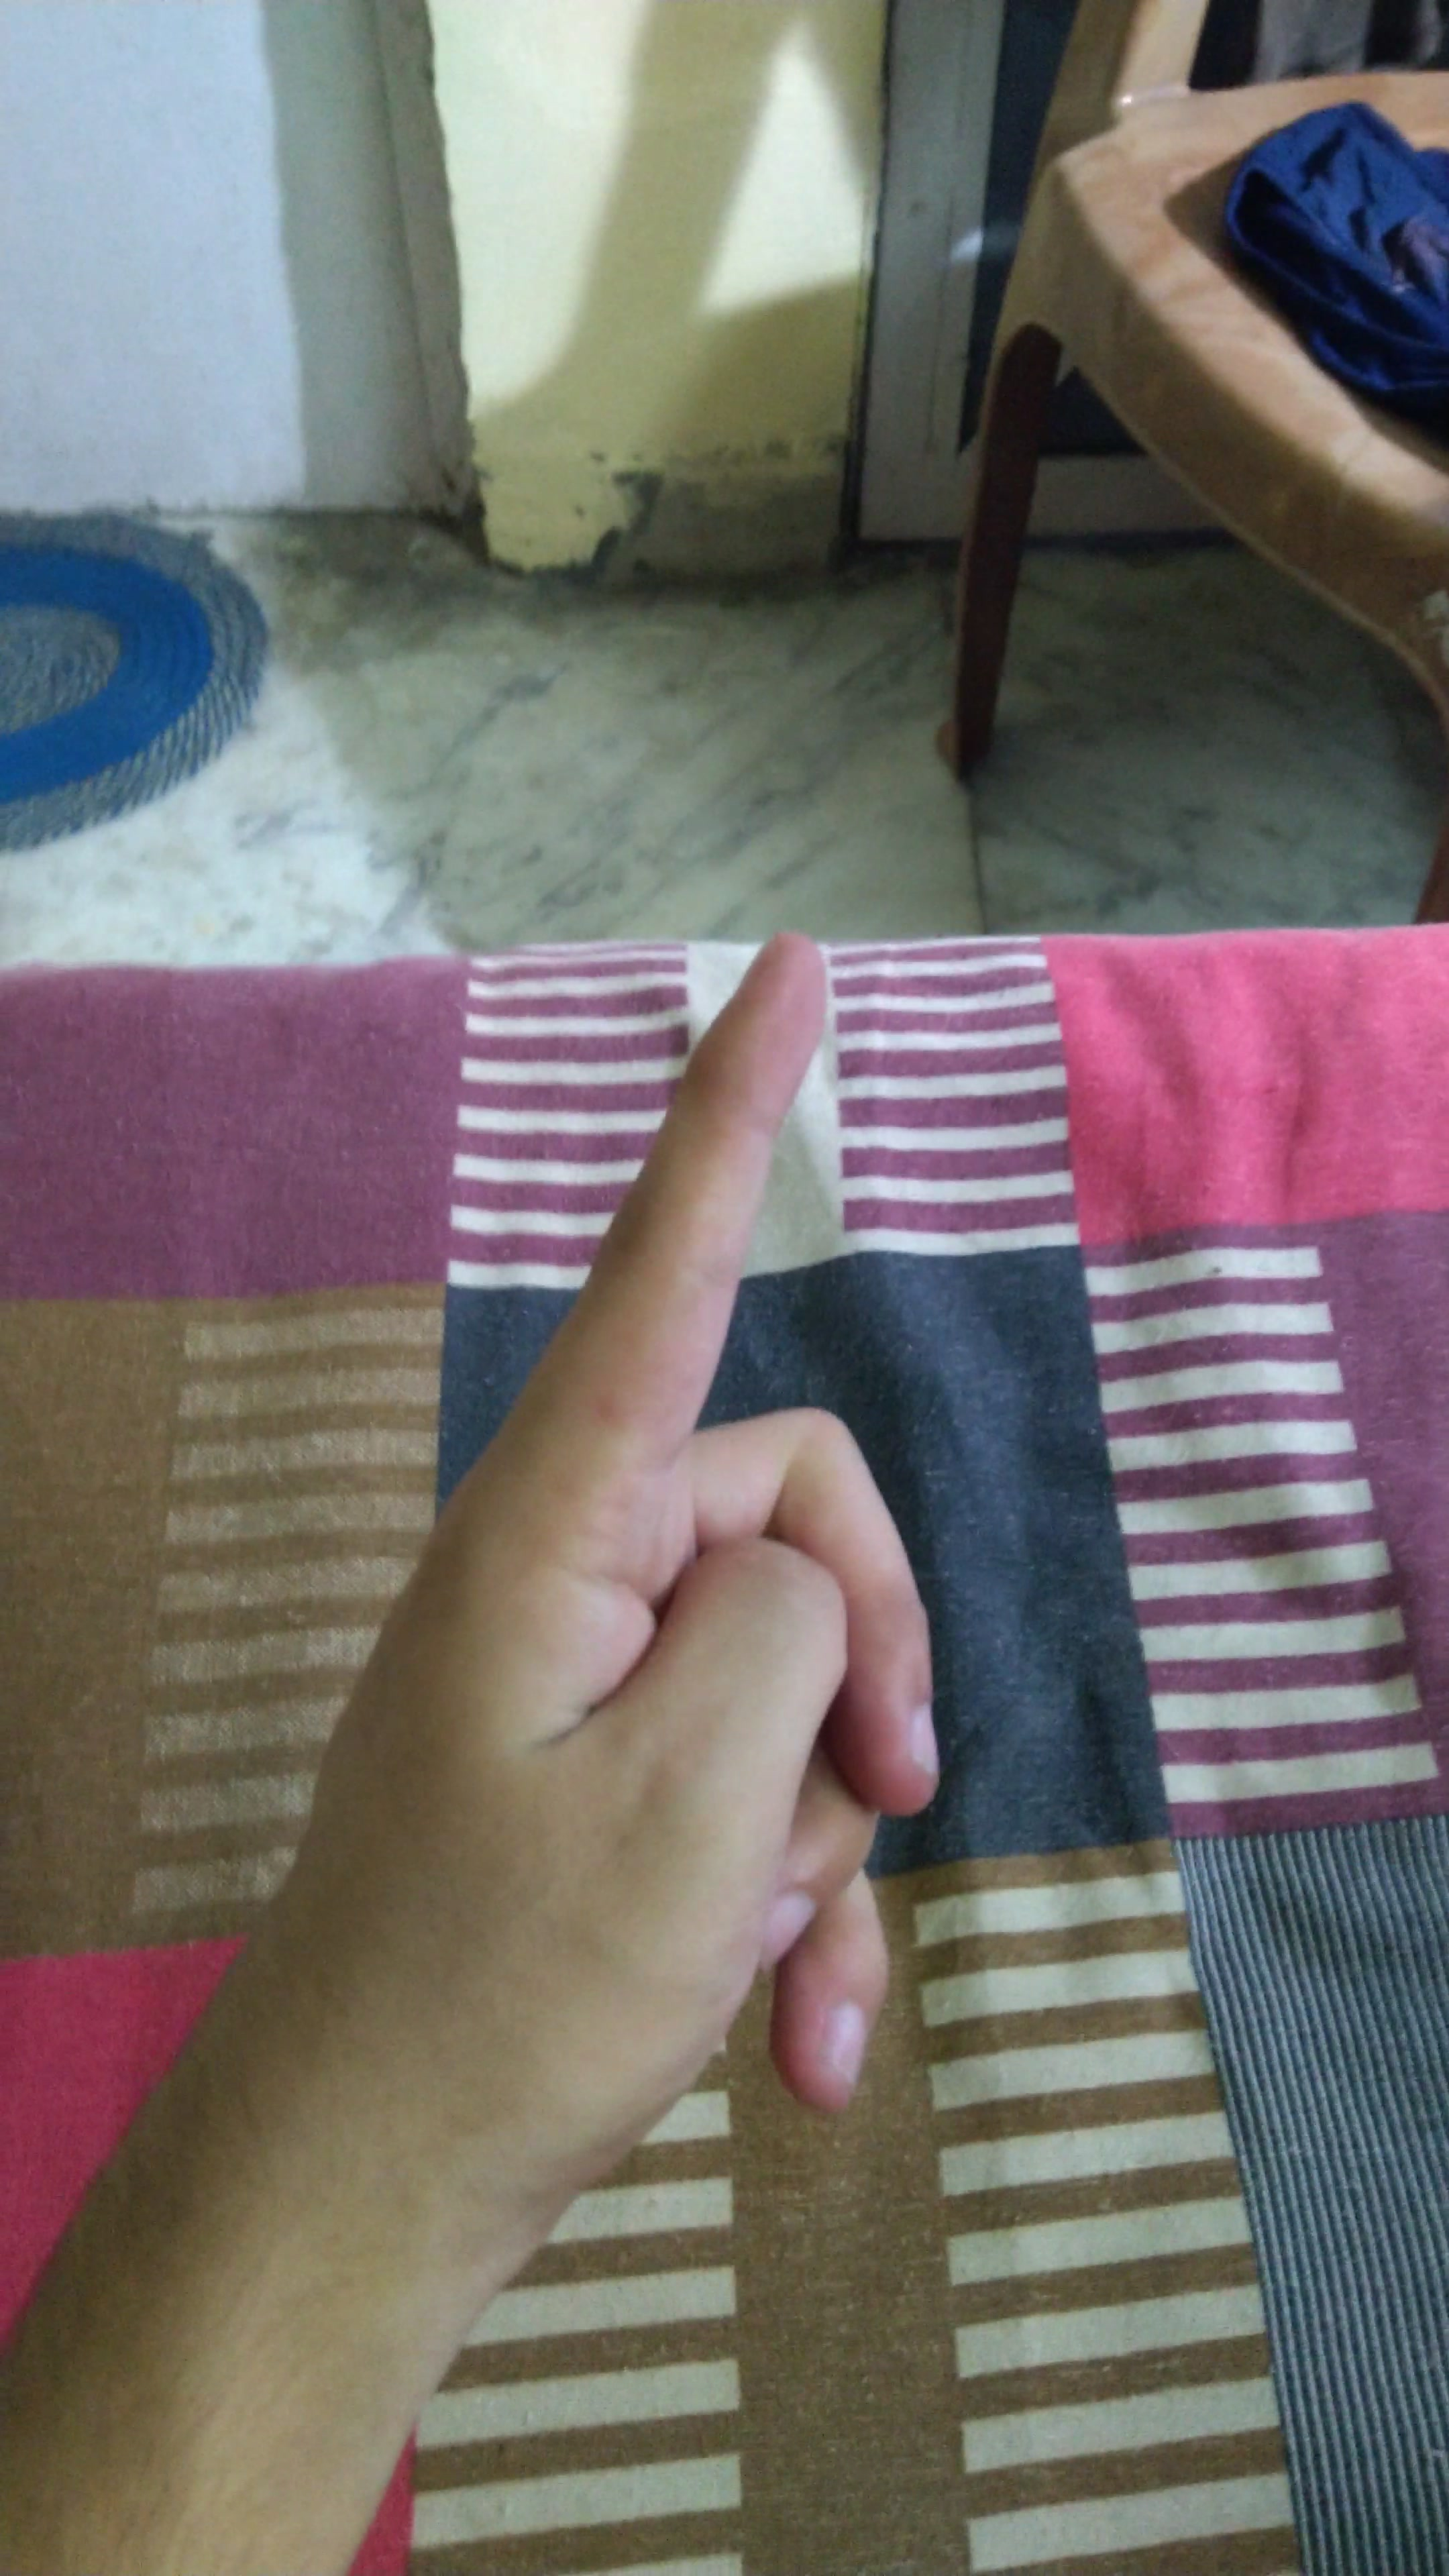hand: (249, 936, 1028, 2210)
